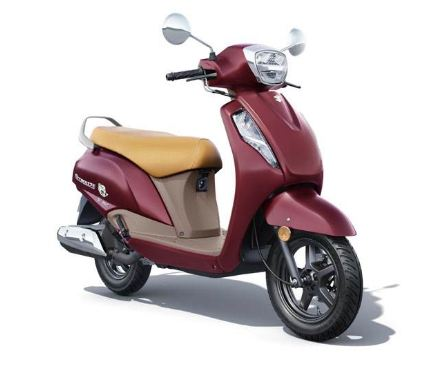bike: (56, 13, 363, 343)
